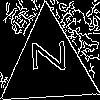Z: (23, 39, 65, 73)
